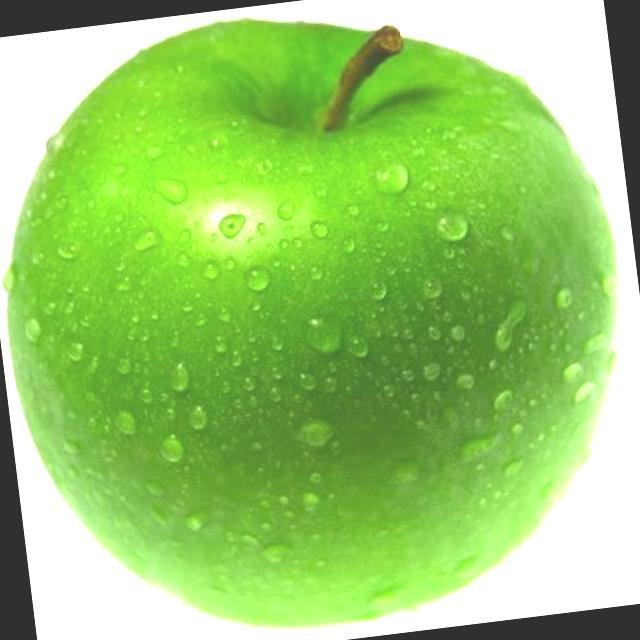Green Apple: (3, 18, 618, 628)
